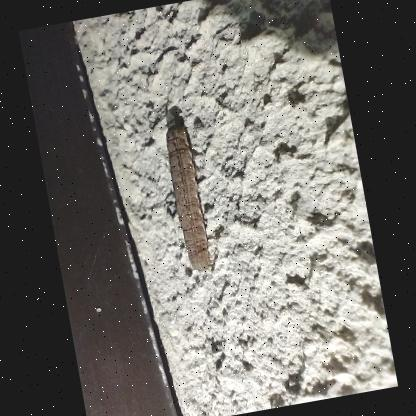Fall Armyworm Larvae: (157, 116, 221, 278)
